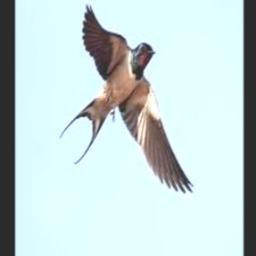Swallow: (60, 3, 195, 192)
